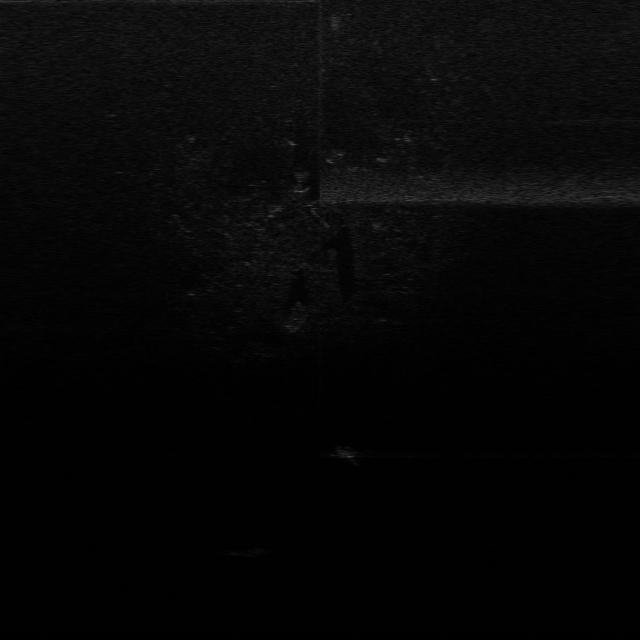square cage: (332, 438, 369, 462)
